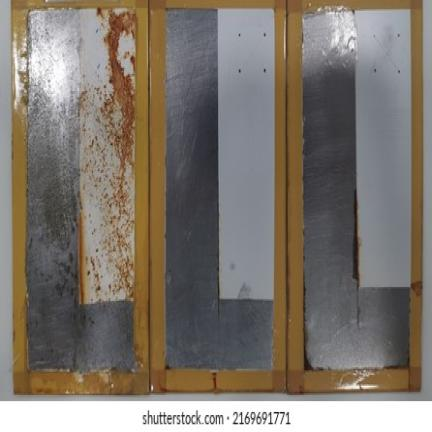besi_tidak_karat: (304, 14, 356, 366), (29, 16, 81, 367), (167, 12, 218, 361)
